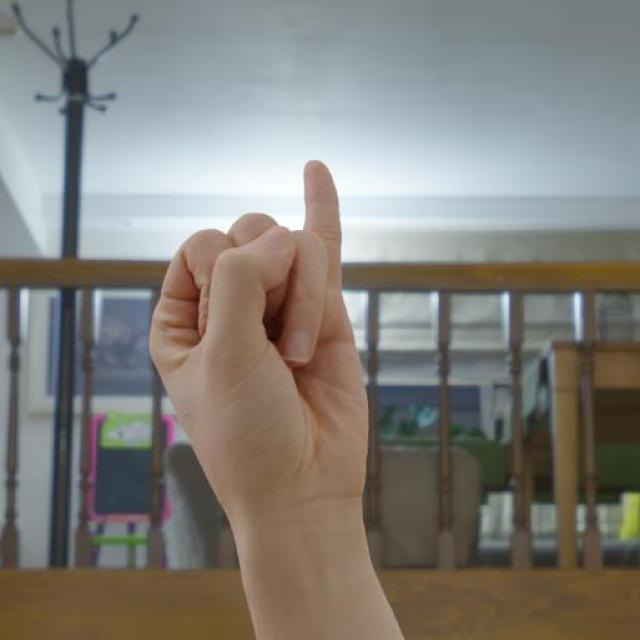I: (145, 157, 378, 523)
